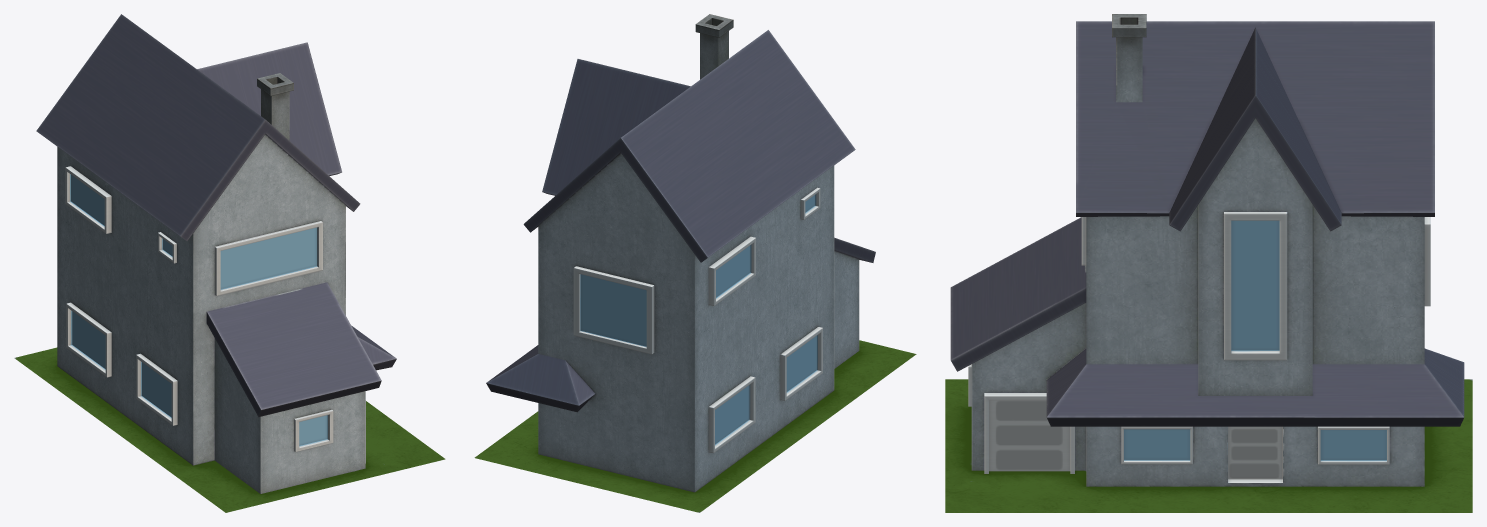
Rendered from casa3.dae.
3 views of the same model, side by side, from view 1: azimuth 30°, elevation 25°; view 2: azimuth 150°, elevation 25°; view 3: azimuth 270°, elevation 25° (orthographic). The views are drawn at different scales.
Visible parts, largest first — view 1: Casa3; view 2: Casa3; view 3: Casa3.
Part boxes in pixels (x1=…): Casa3: x1=14, y1=14, x2=445, y2=512; Casa3: x1=474, y1=14, x2=916, y2=512; Casa3: x1=945, y1=14, x2=1472, y2=512.
Bounding box in the file's own units: 6 × 10 × 9.07.
Materials: 1 (1 with a texture image).
